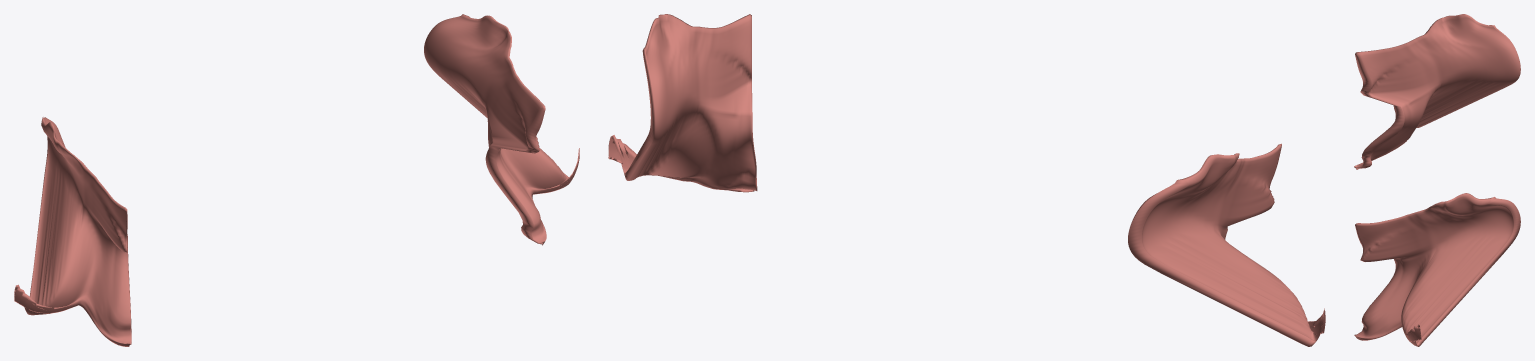
The model's file is buccinator.glb.
3 renders of one model, left to right at view 1: azimuth 30°, elevation 25°; view 2: azimuth 150°, elevation 25°; view 3: azimuth 270°, elevation 25°, orthographic. The views are drawn at different scales.
Parts seen in each view (by area): view 1: buccinator_R, buccinator_L; view 2: buccinator_L, buccinator_R; view 3: buccinator_L, buccinator_R.
Boxes of the visible parts, bbox=[...] form: buccinator_R: bbox=[14, 117, 131, 346]; buccinator_L: bbox=[424, 14, 579, 245]; buccinator_L: bbox=[608, 14, 757, 192]; buccinator_R: bbox=[1128, 143, 1325, 346]; buccinator_L: bbox=[1354, 193, 1520, 346]; buccinator_R: bbox=[1354, 14, 1520, 169].
Size of the model in its own units: 0.0857 by 0.026 by 0.0262.
